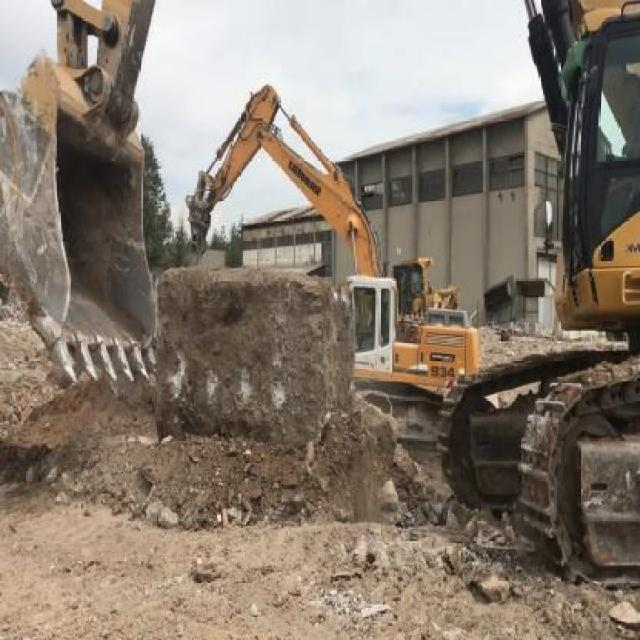excavator: (437, 0, 638, 577), (182, 87, 481, 435)
